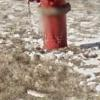Hydrant: (27, 0, 76, 51)
